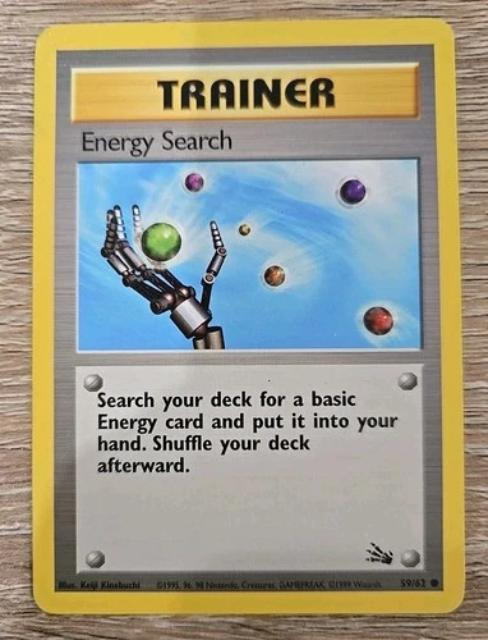Card: (26, 15, 470, 617)
Name: (73, 124, 242, 157)
